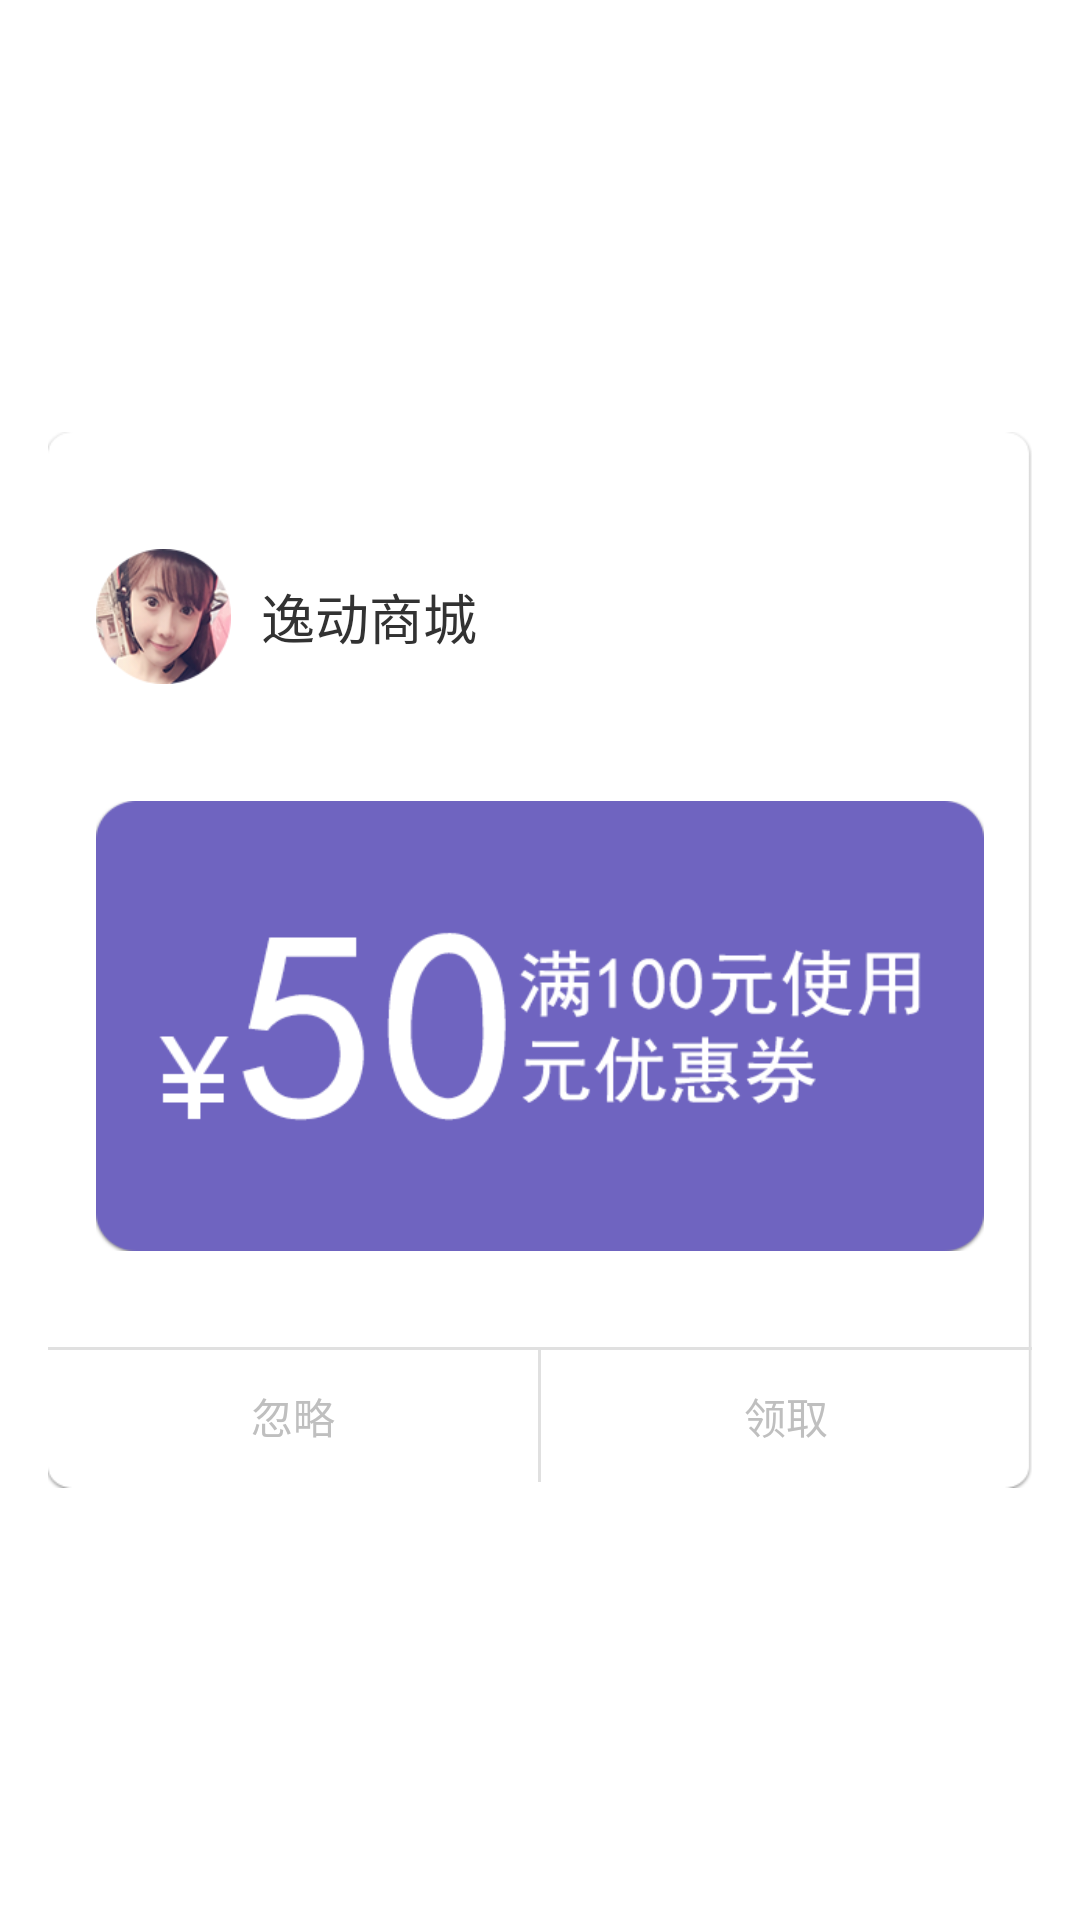

Named icons in this screenshot (1080px×1920px) and their centers, point (x, y):
touxiang: point (163, 616)
